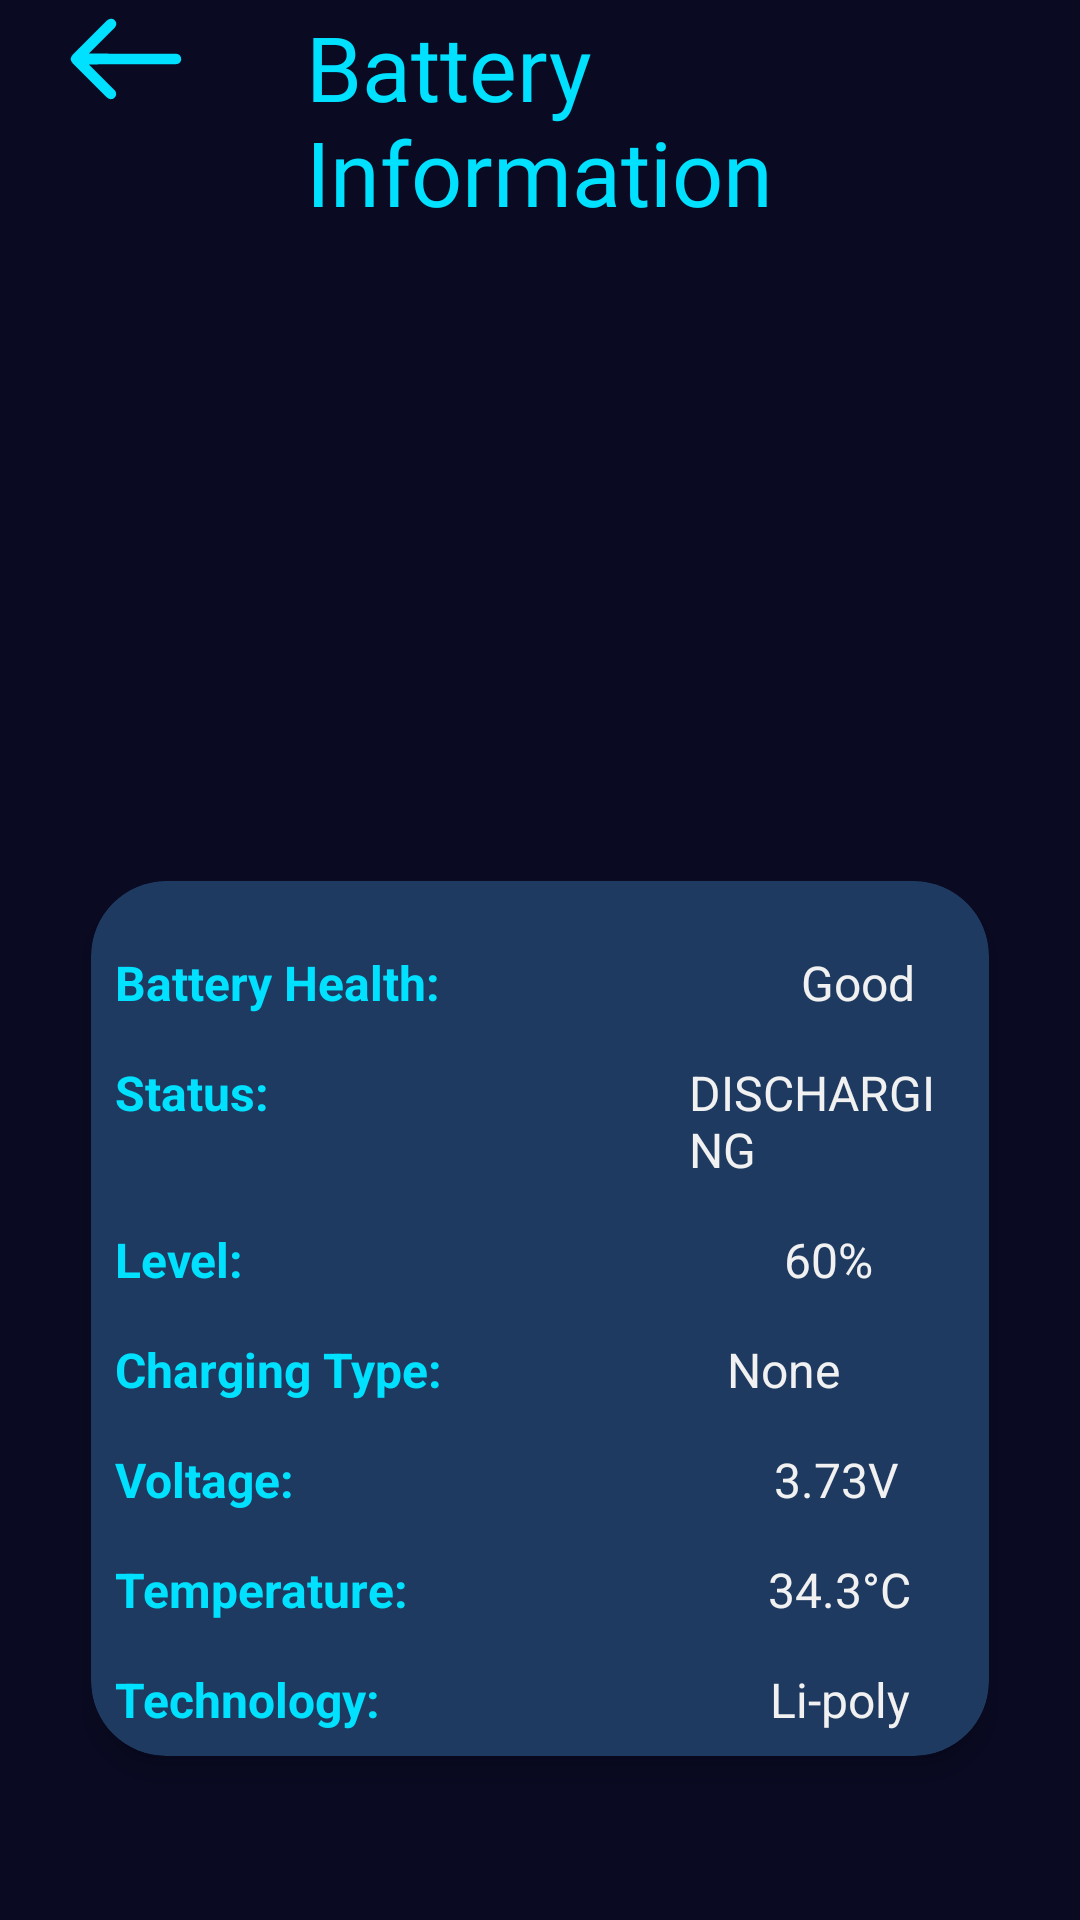

Screen size 1080 x 1920. Icon name, then its box in pixels as (x1, y1, x2, y2):
back: (70, 18, 182, 100)
